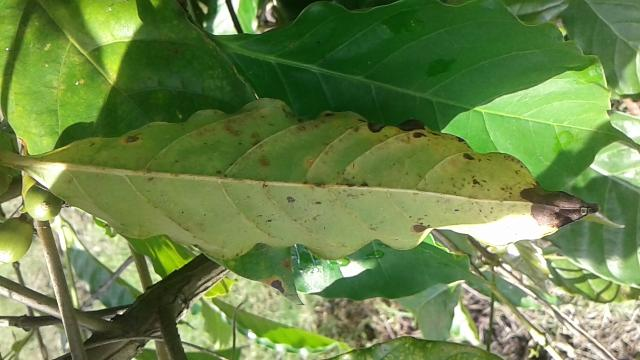rust_level_2: (28, 101, 598, 261)
